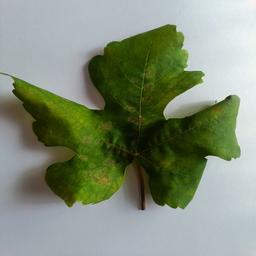Powdery-Mildew: (23, 83, 64, 111), (69, 116, 110, 142), (138, 64, 163, 100), (86, 162, 115, 188), (210, 105, 233, 129), (168, 41, 187, 69), (162, 144, 179, 168)
